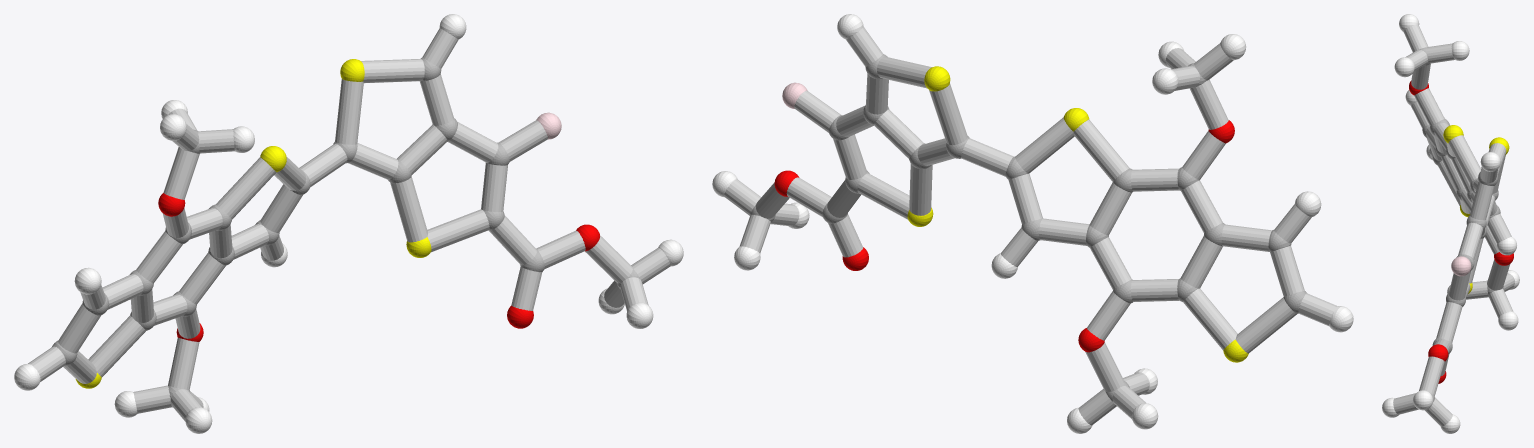
The model's file is Dimethoxy_Benzodithiophene_Phi_15_Theta_140_Methylcarbonyl_3_Fluoro_Thienothiophene.glb.
3 views of the same model, side by side, from view 1: azimuth 30°, elevation 25°; view 2: azimuth 150°, elevation 25°; view 3: azimuth 270°, elevation 25° (orthographic). The views are drawn at different scales.
Parts seen in each view (by area): view 1: grp15205, grp8689, grp1, grp7241, grp13395; view 2: grp15205, grp8689, grp1, grp7241, grp13395; view 3: grp15205, grp8689, grp1, grp13395, grp7241, grp14843.
Boxes of the visible parts, x1=… form: grp15205: x1=28, y1=28, x2=670, y2=421; grp8689: x1=14, y1=14, x2=683, y2=433; grp1: x1=52, y1=57, x2=640, y2=407; grp7241: x1=75, y1=59, x2=431, y2=388; grp13395: x1=158, y1=193, x2=599, y2=341; grp15205: x1=724, y1=27, x2=1337, y2=425; grp8689: x1=712, y1=14, x2=1353, y2=433; grp1: x1=750, y1=54, x2=1306, y2=401; grp7241: x1=907, y1=66, x2=1248, y2=362; grp13395: x1=774, y1=120, x2=1234, y2=352; grp15205: x1=1393, y1=24, x2=1514, y2=426; grp8689: x1=1382, y1=14, x2=1519, y2=433; grp1: x1=1419, y1=47, x2=1503, y2=401; grp13395: x1=1409, y1=81, x2=1513, y2=383; grp7241: x1=1443, y1=125, x2=1509, y2=293; grp14843: x1=1451, y1=256, x2=1471, y2=276.
Size of the model in its own units: 16.88 by 9.26 by 4.1.
